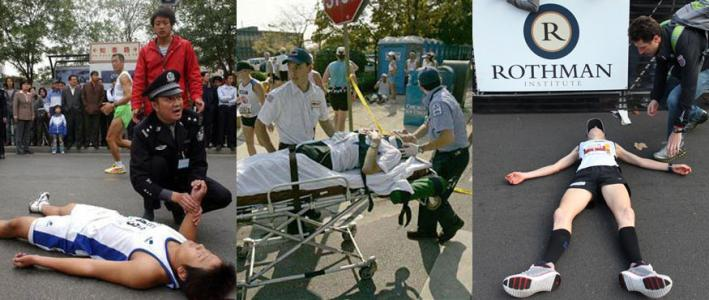10+: (2, 1, 708, 298)
down: (496, 113, 694, 300), (1, 190, 237, 297), (244, 120, 422, 202)
